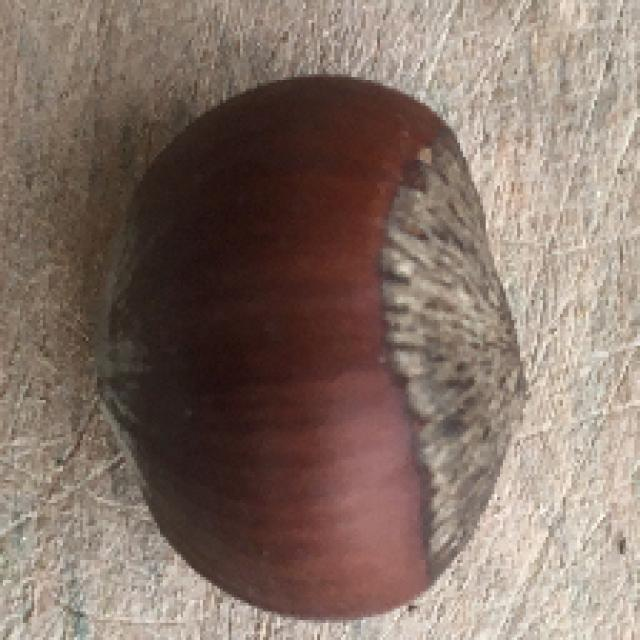damagedHazelnut: (92, 71, 520, 618)
